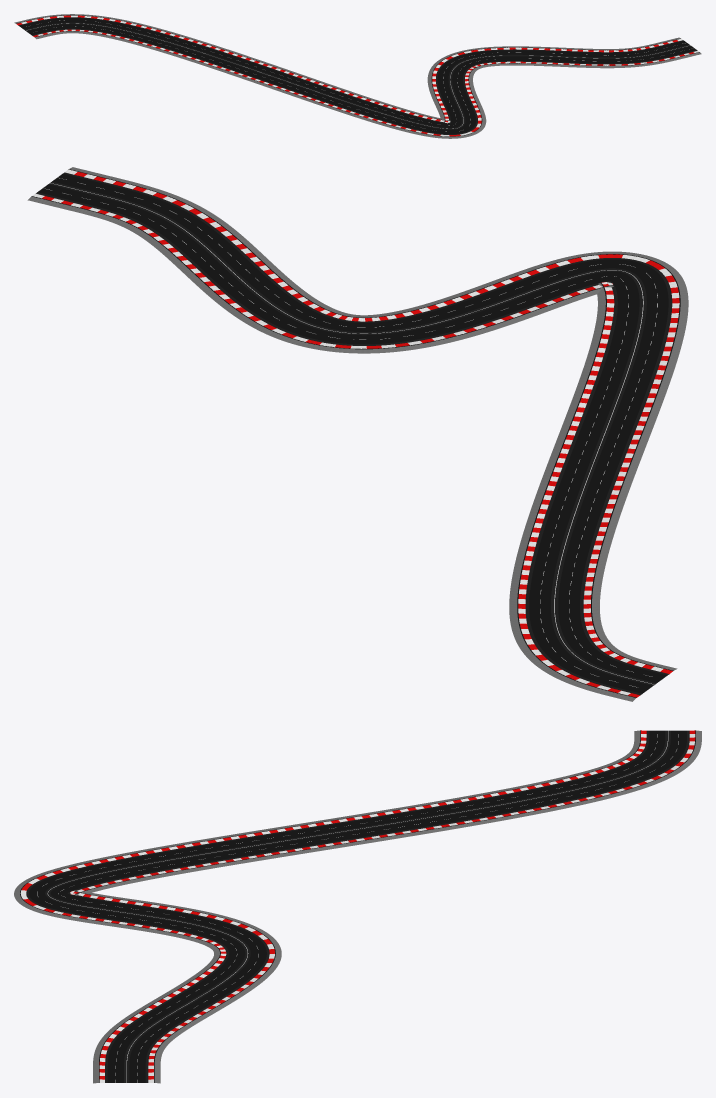
File: S0.2c2h0-ass2.glb
3 views of the same model, one above another, from view 1: azimuth 30°, elevation 25°; view 2: azimuth 150°, elevation 25°; view 3: azimuth 270°, elevation 25° (orthographic). The views are drawn at different scales.
Parts seen in each view (by area): view 1: Grid; view 2: Grid; view 3: Grid.
Boxes of the visible parts, x1,y1,x2,y2 form: Grid: (14,14,701,138); Grid: (27,167,688,701); Grid: (14,730,701,1083).
Size of the model in its own units: 308 by 0.31 by 254.
